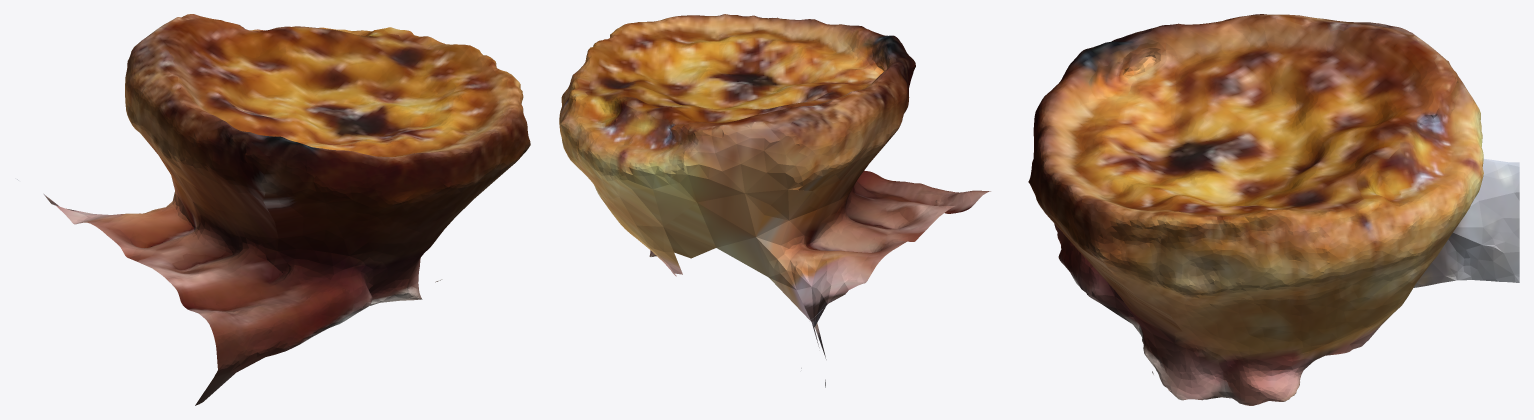
The model's file is eggtart.glb.
3 views of the same model, side by side, from view 1: azimuth 30°, elevation 25°; view 2: azimuth 150°, elevation 25°; view 3: azimuth 270°, elevation 25° (orthographic). The views are drawn at different scales.
Visible parts, largest first — view 1: mesh; view 2: mesh; view 3: mesh.
Part boxes in pixels (x1=…): mesh: x1=15, y1=14, x2=530, y2=405; mesh: x1=559, y1=14, x2=990, y2=387; mesh: x1=1028, y1=14, x2=1519, y2=405.
Size of the model in its own units: 0.0917 by 0.0626 by 0.0946.
Materials: 1 (1 with a texture image).
